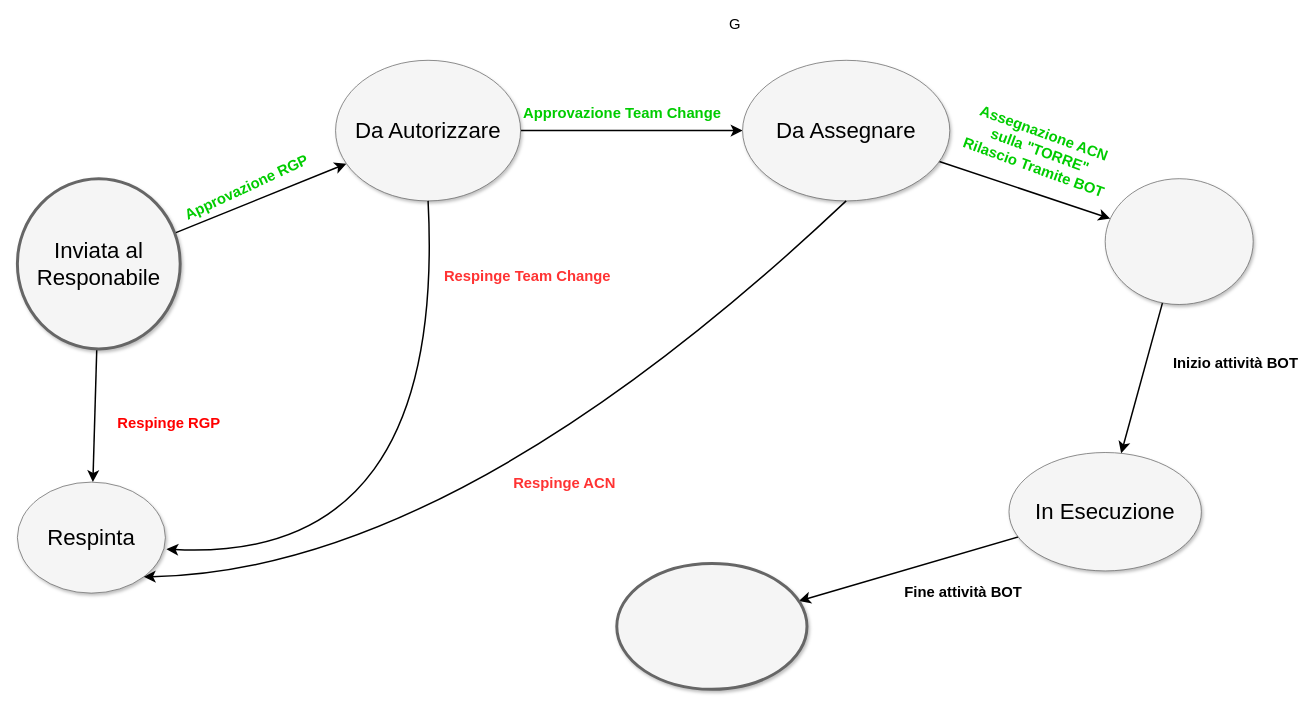
The diagram is 1311 pixels wide and 708 high, and some of its shapes have lost their labels. The centre of each missing label's shape, as x and y in pixels:
Assegnata: (x=1179, y=242)
Fine Esecuzione: (x=712, y=627)
